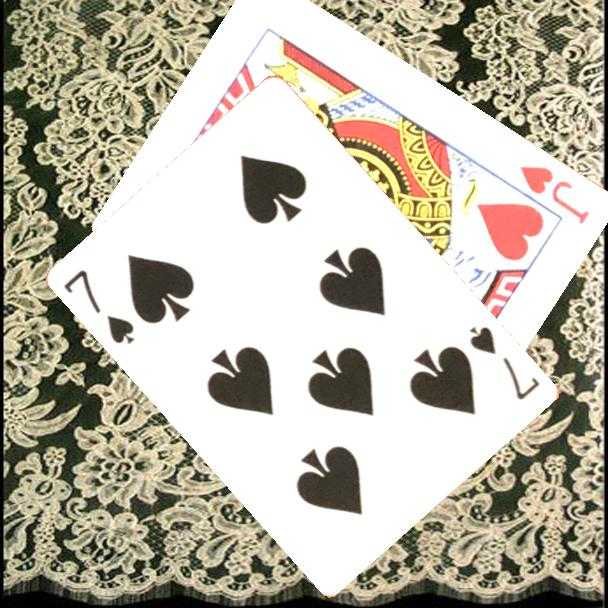h11: (516, 162, 593, 227)
s07: (61, 266, 139, 348), (466, 322, 544, 403)
